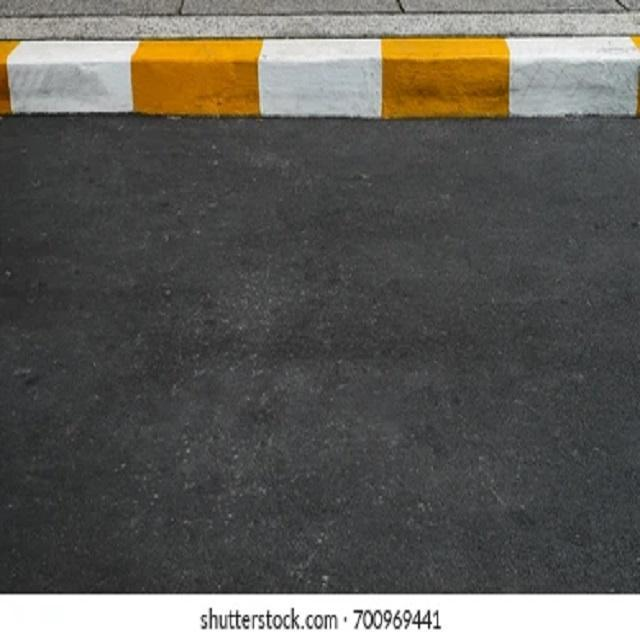curb: (4, 36, 640, 124)
